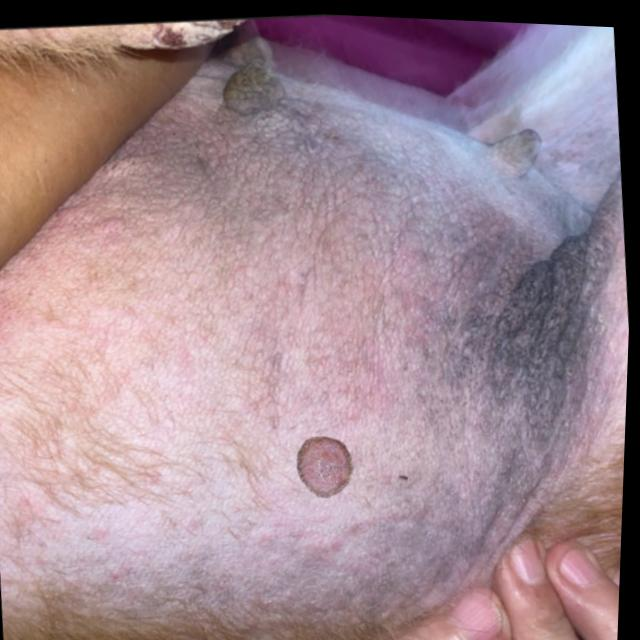ringworm: (268, 398, 379, 546)
